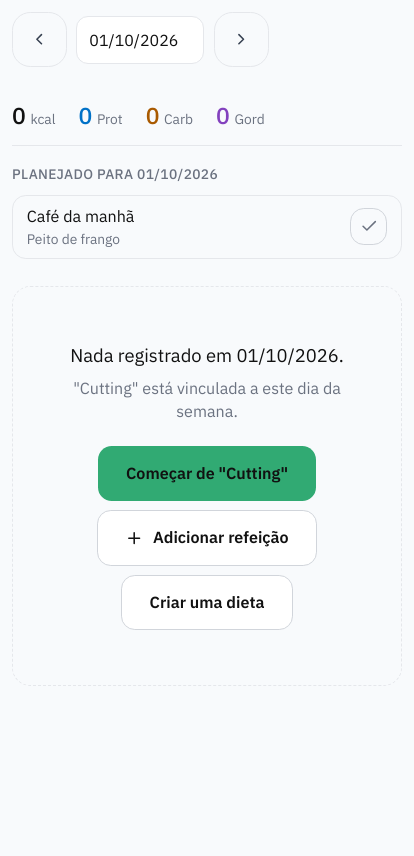
Test: planned meals waiting to be checked › tapping the row opens the meal unchecked, without claiming it was eaten
Click the button with aria-label "Abrir Café da manhã" at (81, 215), box x1=27 y1=205 x2=337 y2=248
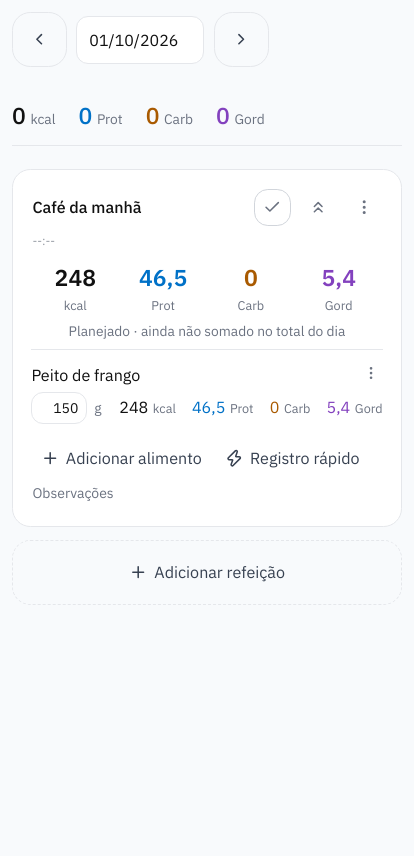
Expected: the heading "Planejado para" is gone
